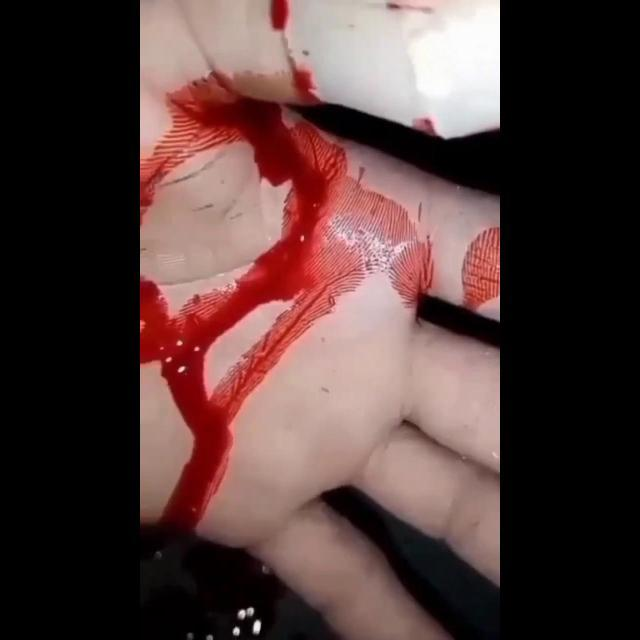blood: (140, 0, 500, 640), (322, 490, 499, 640)
